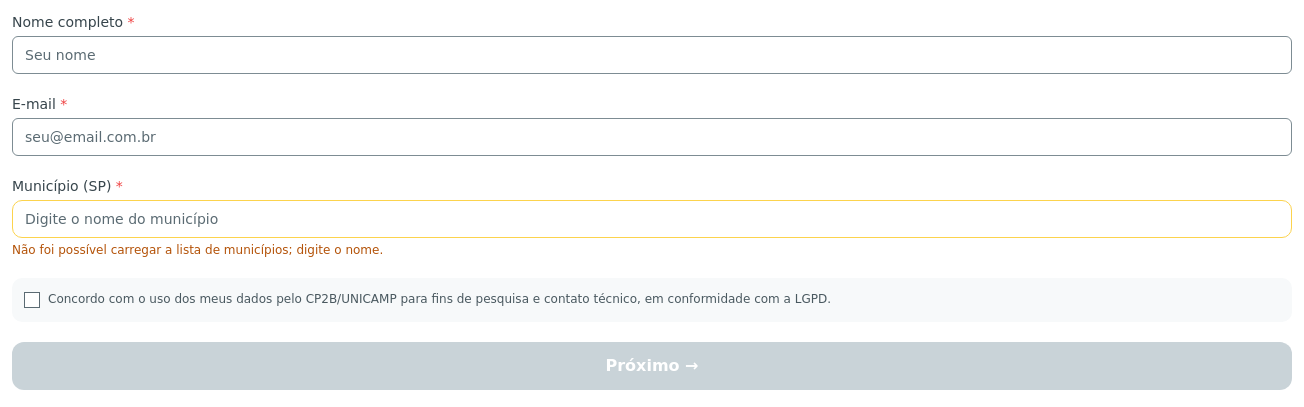
Test: StepIdentificacao › requires the LGPD consent
Expected: the text "Não foi possível carregar" is shown, [12,243,383,257]
Type "Ana" into the field labelled "Nome completo *".
click(652, 55); type("Ana")  # box [12,36,1292,74]
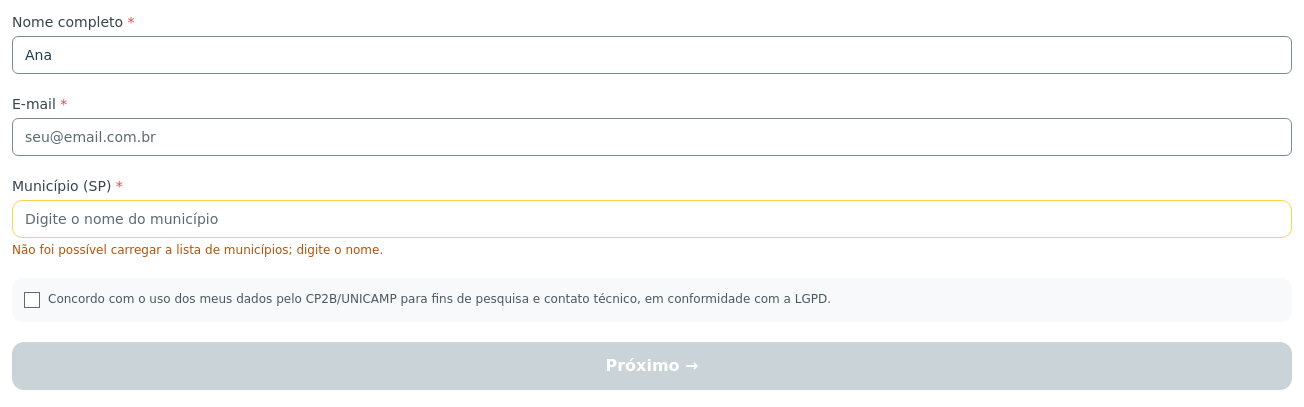
Type "ana@unicamp.br" into the field labelled "E-mail *".
click(652, 137); type("ana@unicamp.br")  # box [12,118,1292,156]
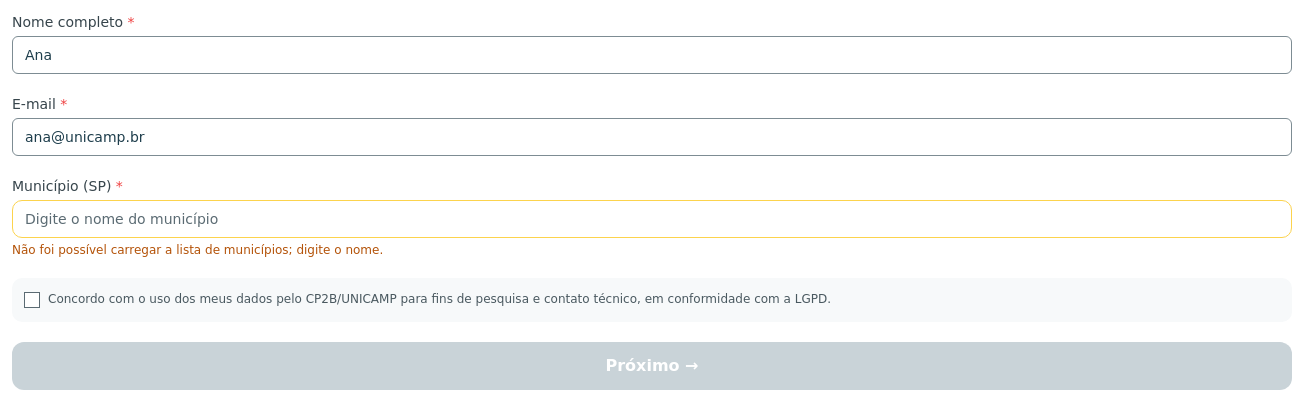
Type "Campinas" into the field labelled "Município (SP) *".
click(652, 219); type("Campinas")  # box [12,200,1292,238]
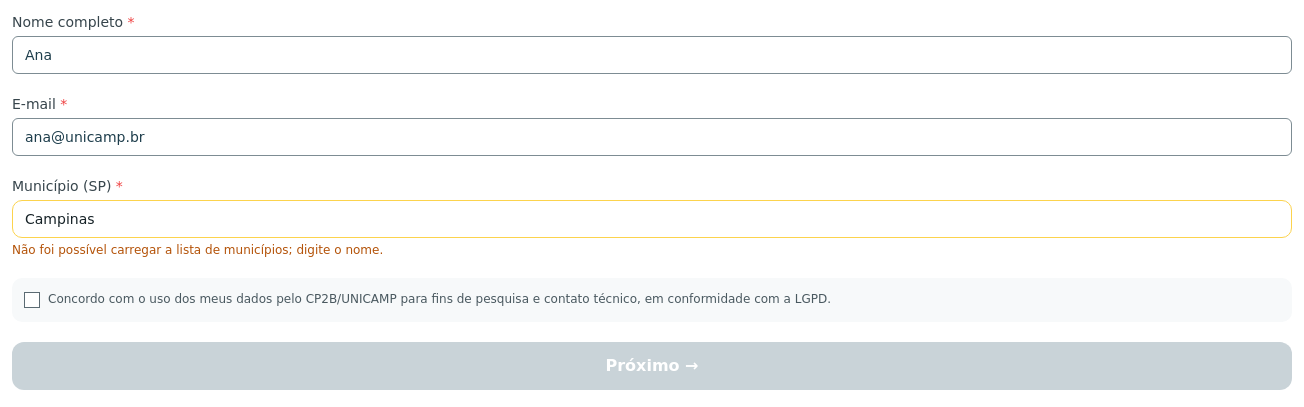
Expected: the button "Próximo →" is disabled, [12,342,1292,390]
Click the checkbox.
click(32, 300)  # box [24,292,40,308]
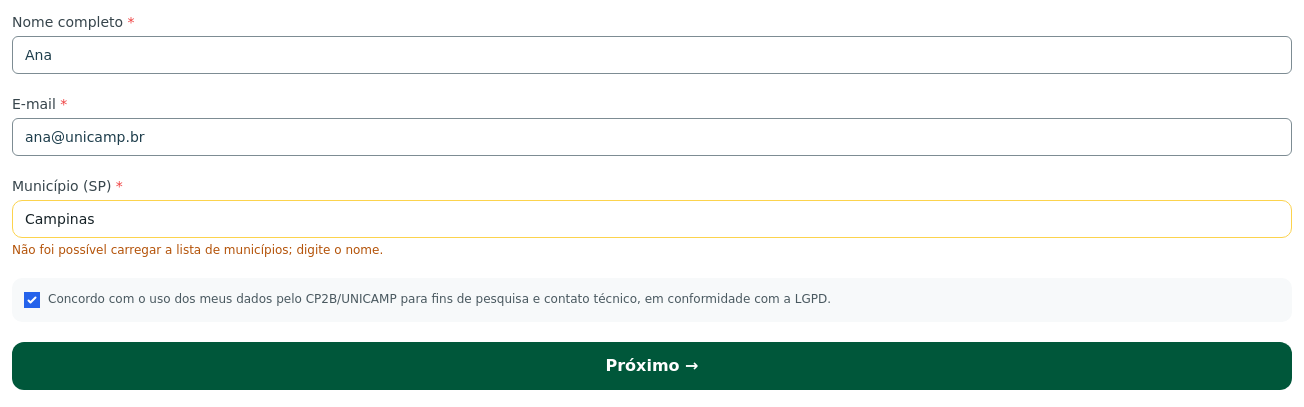
Result: the button "Próximo →" is enabled at [12,342,1292,390]
